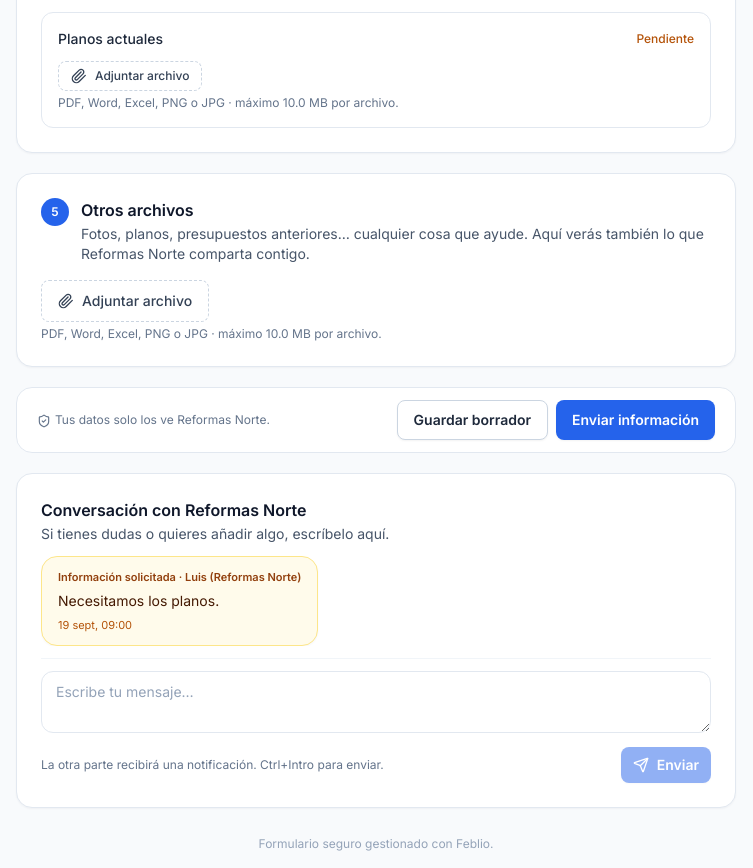
Test: <SolicitudCliente /> › muestra la información pendiente pedida por la empresa y permite responder en la conversación
(page scrolled)
Expected: the text "Necesitamos los planos." is shown, left=58, top=592, right=219, bottom=609
Type "Los adjunto mañana" into the text box named "nuevo mensaje" at (376, 702), box left=41, top=671, right=711, bottom=733
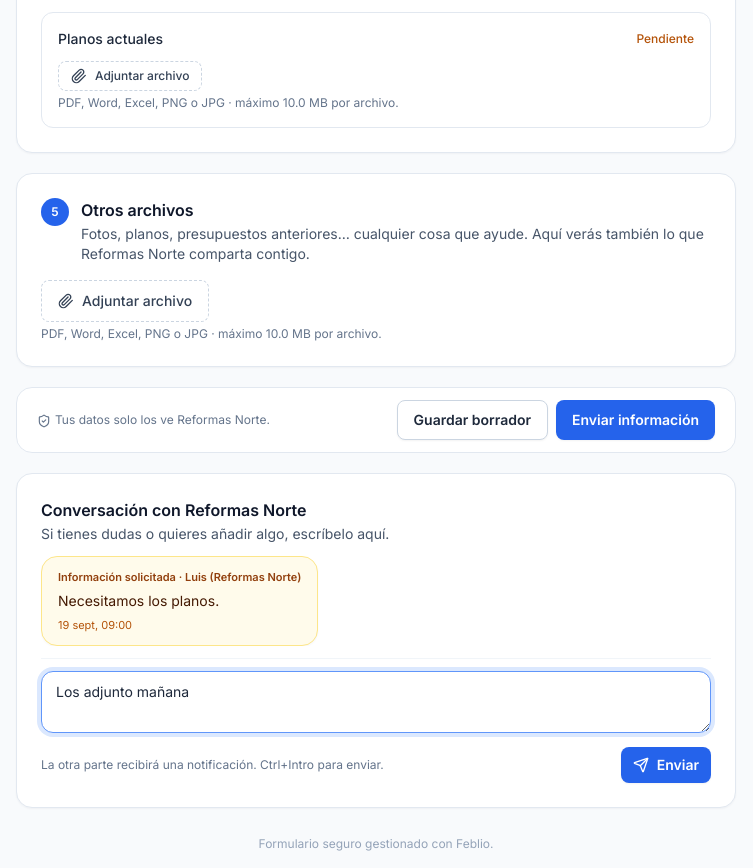
Click the button "Enviar" at (666, 765), box left=621, top=747, right=711, bottom=783
(page scrolled)
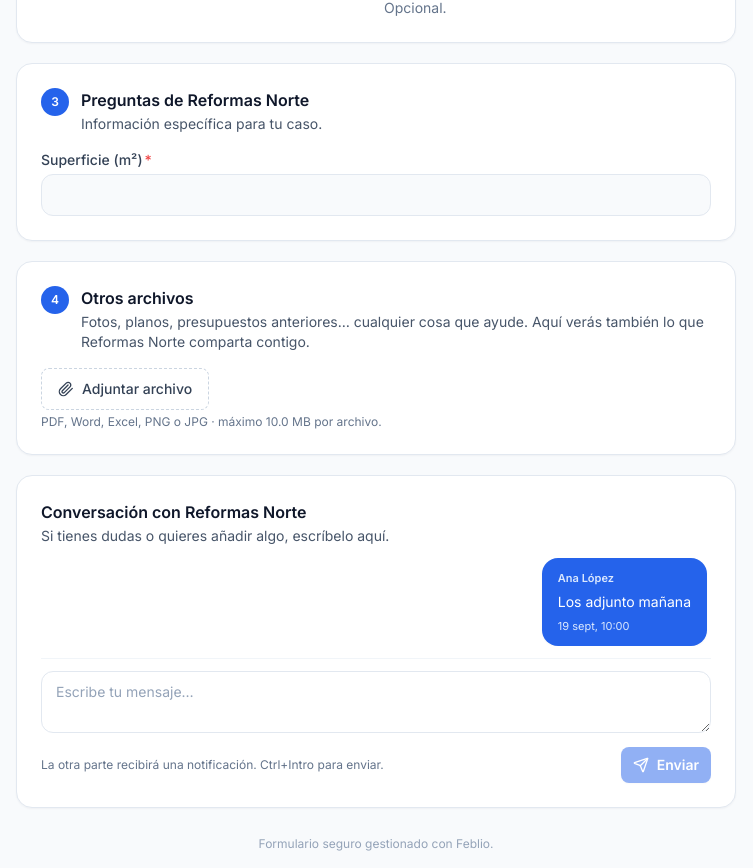
Now the text "Los adjunto mañana" is shown, box left=558, top=592, right=691, bottom=612
